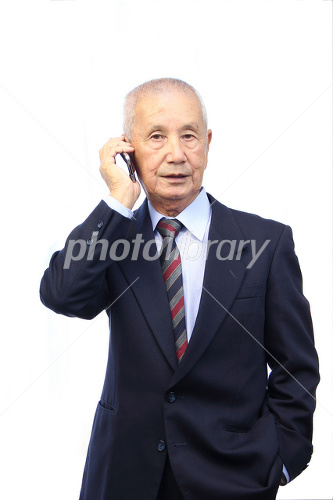phone: (97, 133, 143, 193)
talk: (98, 122, 209, 210)
